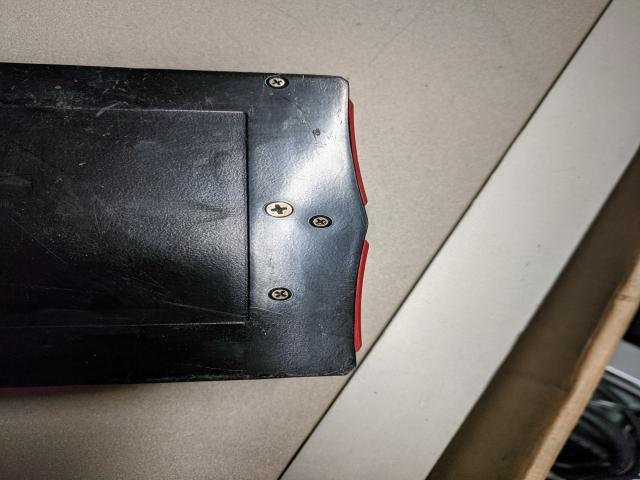CRS: (263, 200, 295, 217), (313, 214, 332, 228), (269, 288, 289, 301), (268, 74, 287, 86)
